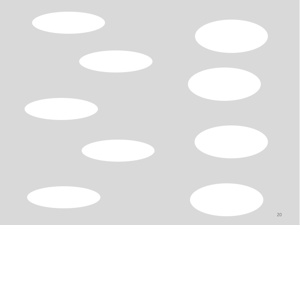round: (184, 62, 265, 104), (193, 15, 273, 55), (187, 179, 267, 217), (191, 122, 270, 160), (21, 179, 105, 211), (76, 134, 161, 164), (30, 6, 108, 36), (76, 46, 156, 75), (21, 93, 100, 122)
